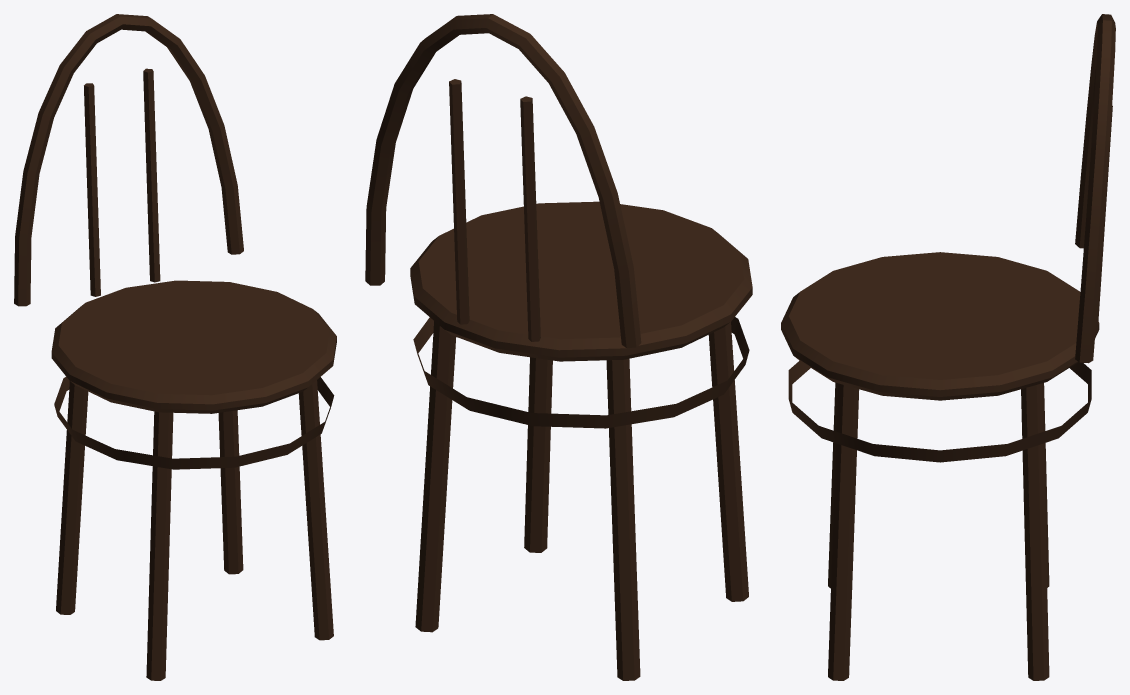
Rendered from mae_chair.glb.
3 views of the same model, side by side, from view 1: azimuth 30°, elevation 25°; view 2: azimuth 150°, elevation 25°; view 3: azimuth 270°, elevation 25° (orthographic). The views are drawn at different scales.
Parts seen in each view (by area): view 1: mae_chair; view 2: mae_chair; view 3: mae_chair.
Part boxes in pixels (bbox=[...]): mae_chair: bbox=[14, 14, 336, 680]; mae_chair: bbox=[365, 14, 752, 680]; mae_chair: bbox=[781, 14, 1115, 680].
Size of the model in its own units: 0.42 by 0.8916 by 0.442.
